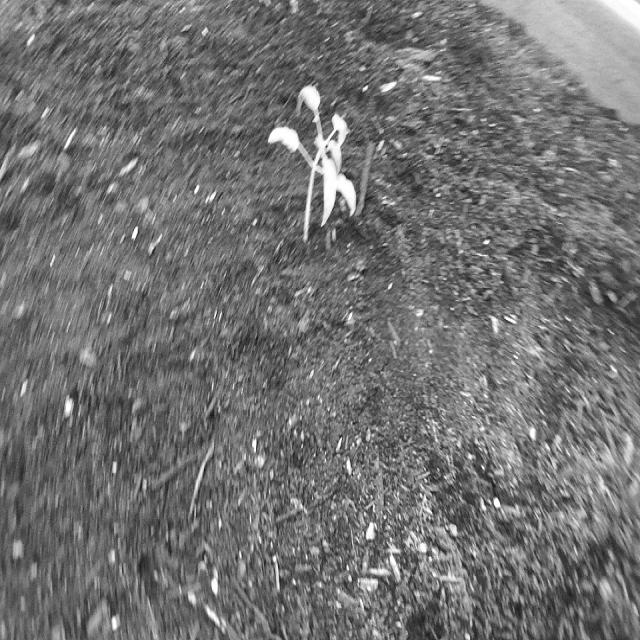Healthy: (265, 70, 364, 254)
